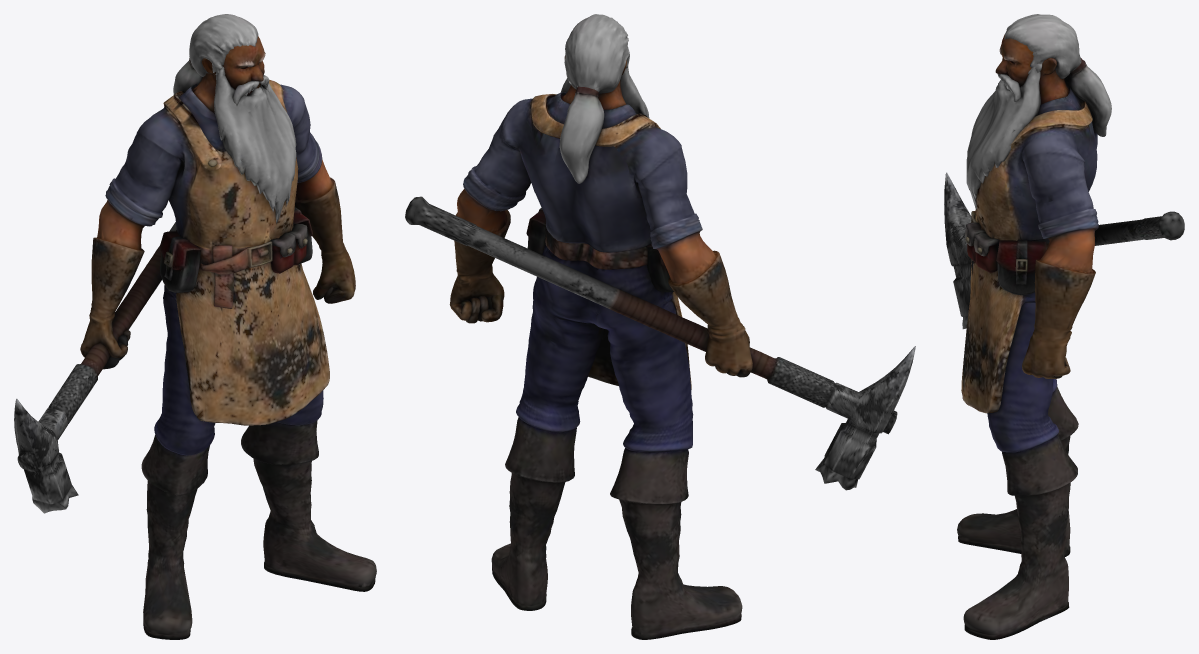
The model's file is MZ4250 - Human Male Blacksmith_1.glb.
3 views of the same model, side by side, from view 1: azimuth 30°, elevation 25°; view 2: azimuth 150°, elevation 25°; view 3: azimuth 270°, elevation 25° (orthographic). The views are drawn at different scales.
Visible parts, largest first — view 1: Body.002; view 2: Body.002; view 3: Body.002.
Part boxes in pixels (x1,y1,x2,y2): Body.002: [14, 14, 376, 639]; Body.002: [405, 14, 915, 639]; Body.002: [944, 14, 1184, 639].
Size of the model in its own units: 0.6518 by 0.9113 by 0.3525.
Materials: 1 (1 with a texture image).
